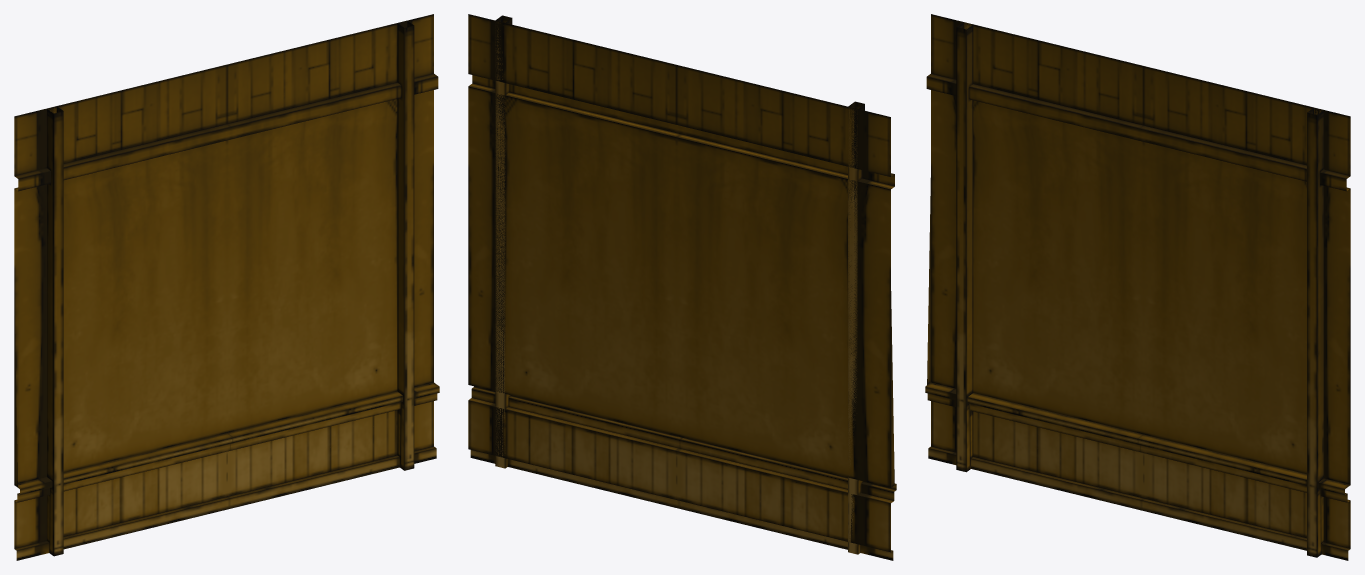
Rendered from living_room_wall__secrets_of_the_machine.glb.
The picture shows the model from 3 angles, left to right: view 1: azimuth 30°, elevation 25°; view 2: azimuth 150°, elevation 25°; view 3: azimuth 330°, elevation 25°; orthographic projection.
Visible parts, largest first — view 1: Object_2; view 2: Object_2; view 3: Object_2.
Part boxes in pixels (x1,y1,x2,y2): Object_2: (14, 14, 439, 560); Object_2: (468, 14, 896, 560); Object_2: (925, 14, 1350, 560).
Bounding box in the file's own units: 2 × 2.01 × 0.0577.
Materials: 1 (1 with a texture image).
